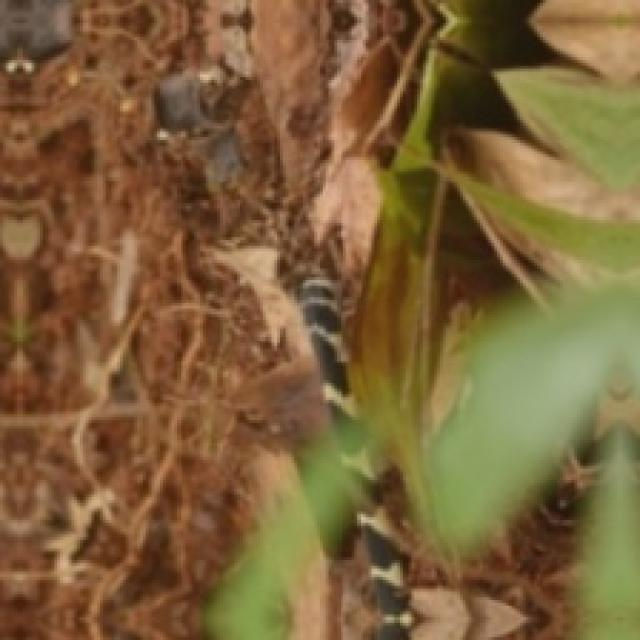king cobra: (329, 454, 417, 637), (297, 274, 354, 420)
